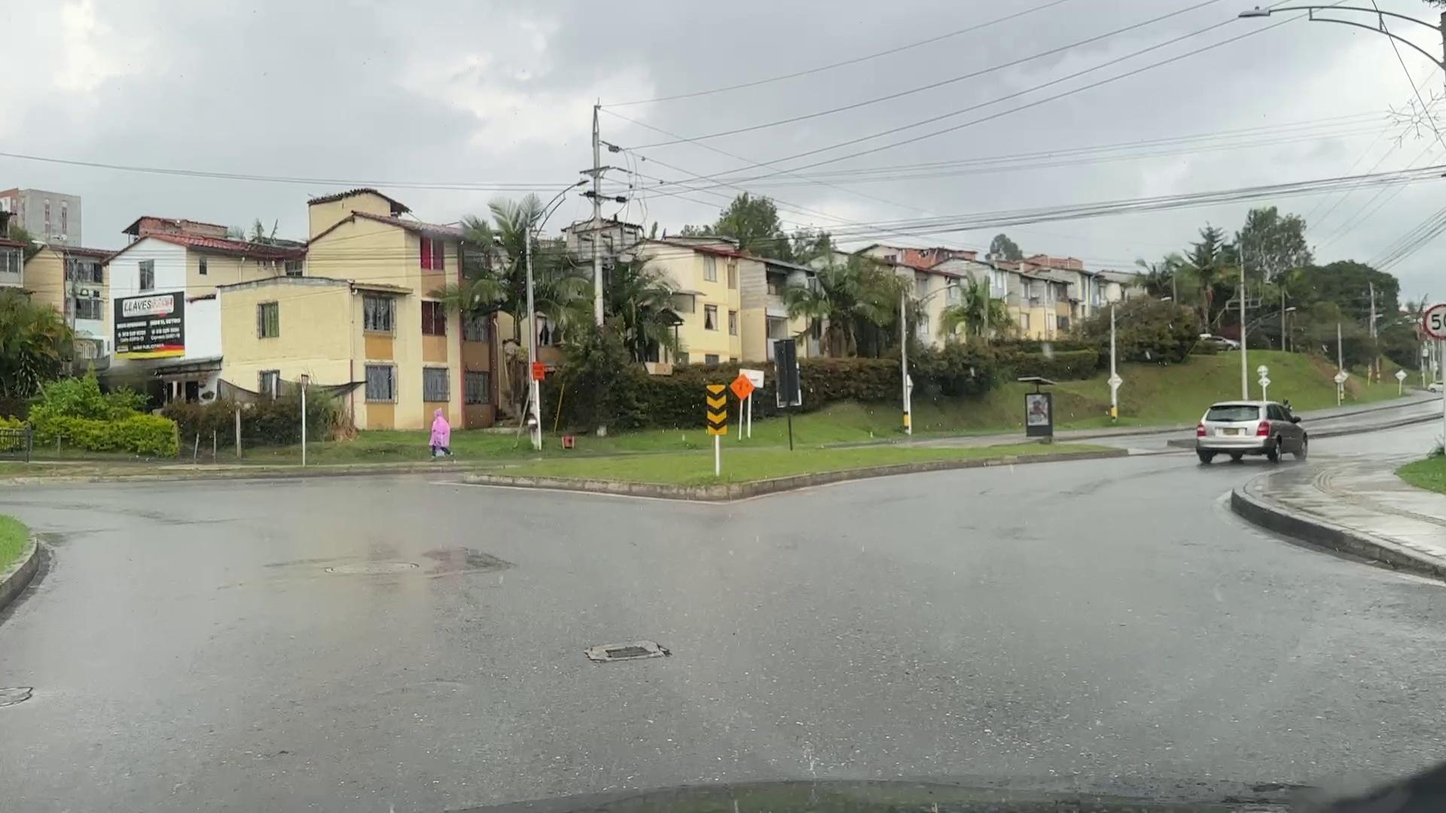bache: (585, 641, 669, 662)
registro: (333, 562, 419, 575)
